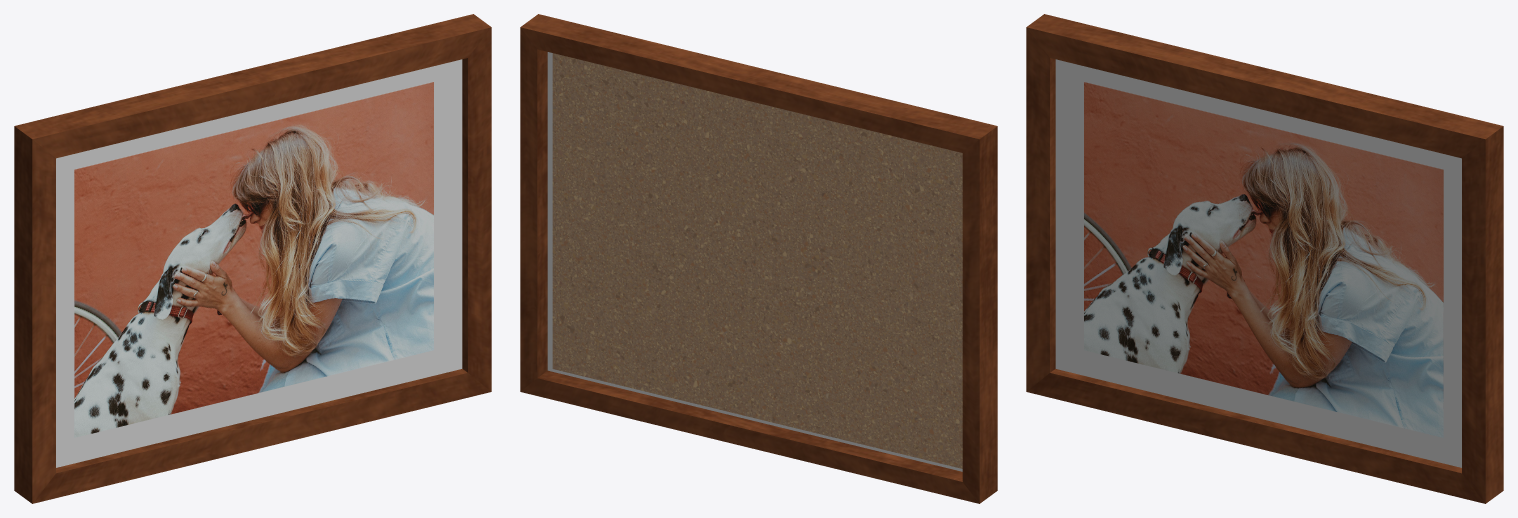
The model's file is ppt-ios.glb.
3 views of the same model, side by side, from view 1: azimuth 30°, elevation 25°; view 2: azimuth 150°, elevation 25°; view 3: azimuth 330°, elevation 25° (orthographic).
Parts seen in each view (by area): view 1: Motif, Frame, White; view 2: Back, Frame, White; view 3: Motif, Frame, White.
Boxes of the visible parts, <box> form: Motif: <box>74,81,433,437</box>; Frame: <box>14,14,491,503</box>; White: <box>56,59,462,467</box>; Back: <box>552,53,962,468</box>; Frame: <box>520,14,997,503</box>; White: <box>547,52,962,471</box>; Motif: <box>1084,81,1443,437</box>; Frame: <box>1026,14,1503,503</box>; White: <box>1055,59,1461,467</box>.
Bounding box in the file's own units: 0.4143 × 0.3143 × 0.0283.
4 materials, 3 textured.
